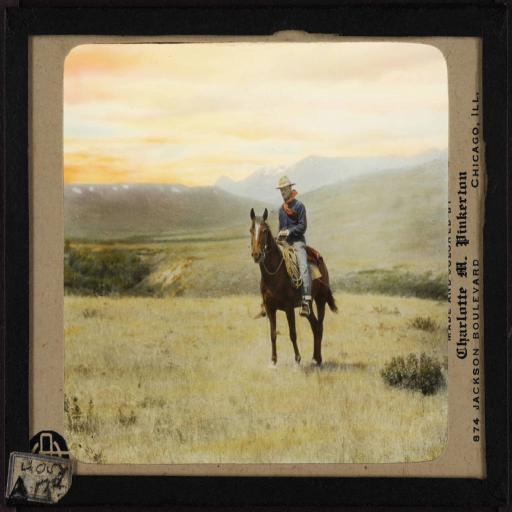Horse: (249, 206, 341, 368)
